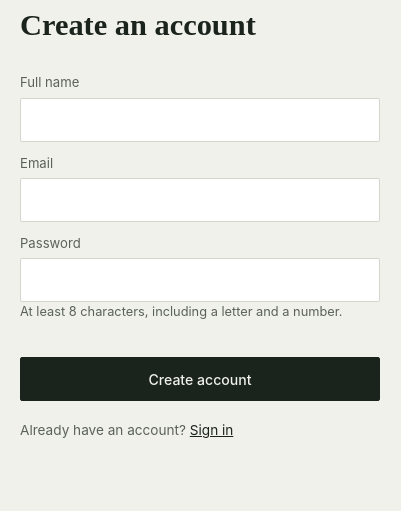
Test: RegisterPage validation › requires a full name before submitting anything to the API
Type "thandi@example.test" into the field labelled "Email" at (200, 200), box [20,178,380,222]
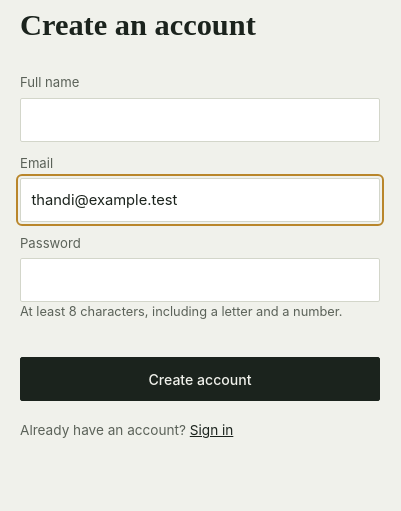
Type "correct-horse-9" into the password field labelled "Password" at (200, 280), box [20,258,380,302]
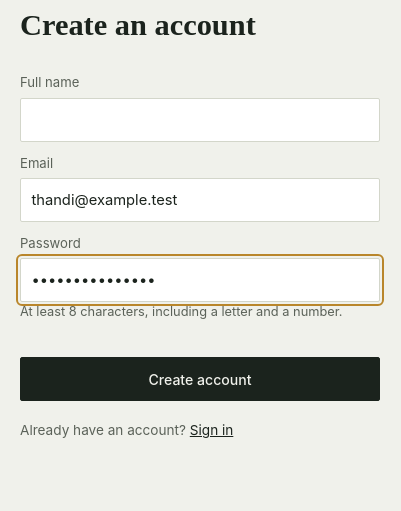
Click the button "Create account" at (200, 379), box [20,357,380,401]
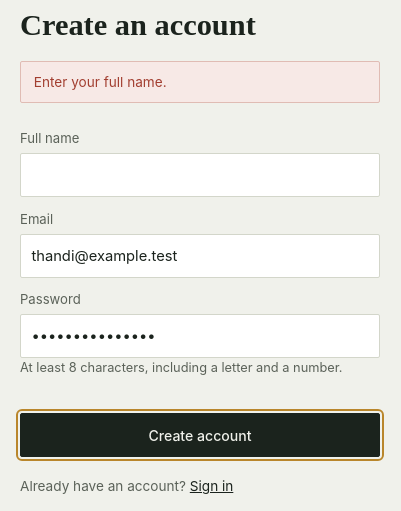
Check: the message reads "Enter your full name.", box [34,74,167,90]
